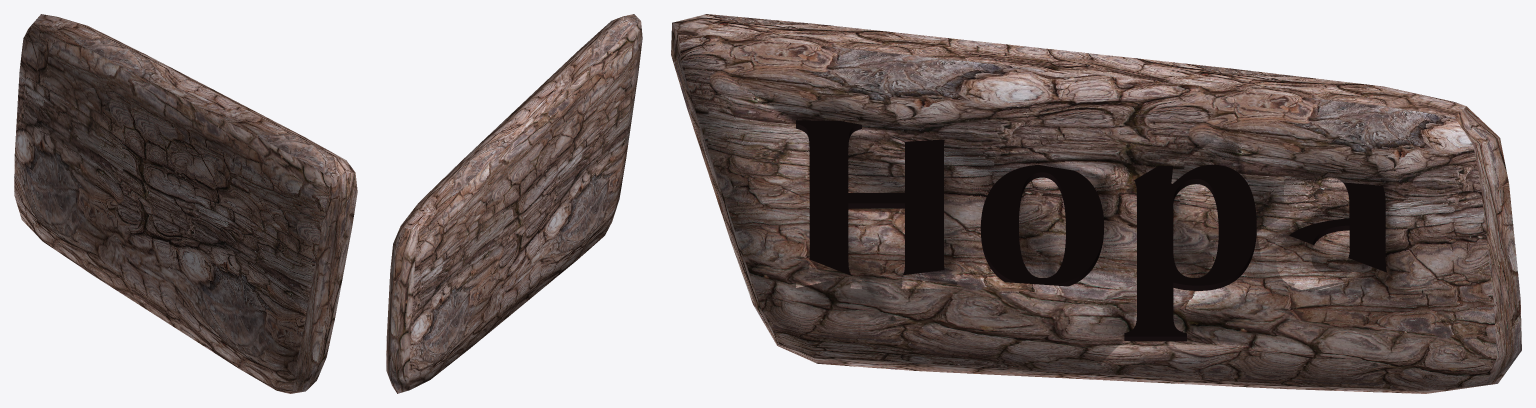
The model's file is tablet.fbx.
3 renders of one model, left to right at view 1: azimuth 30°, elevation 25°; view 2: azimuth 150°, elevation 25°; view 3: azimuth 270°, elevation 25°, orthographic. The views are drawn at different scales.
Parts seen in each view (by area): view 1: Cube; view 2: Cube; view 3: Cube.
Part boxes in pixels (<box>): Cube: <box>14,14,357,393</box>; Cube: <box>386,14,642,393</box>; Cube: <box>671,14,1521,393</box>.
Bounding box in the file's own units: 3.58 × 20.82 × 42.26.
Materials: 2 (1 with a texture image).
